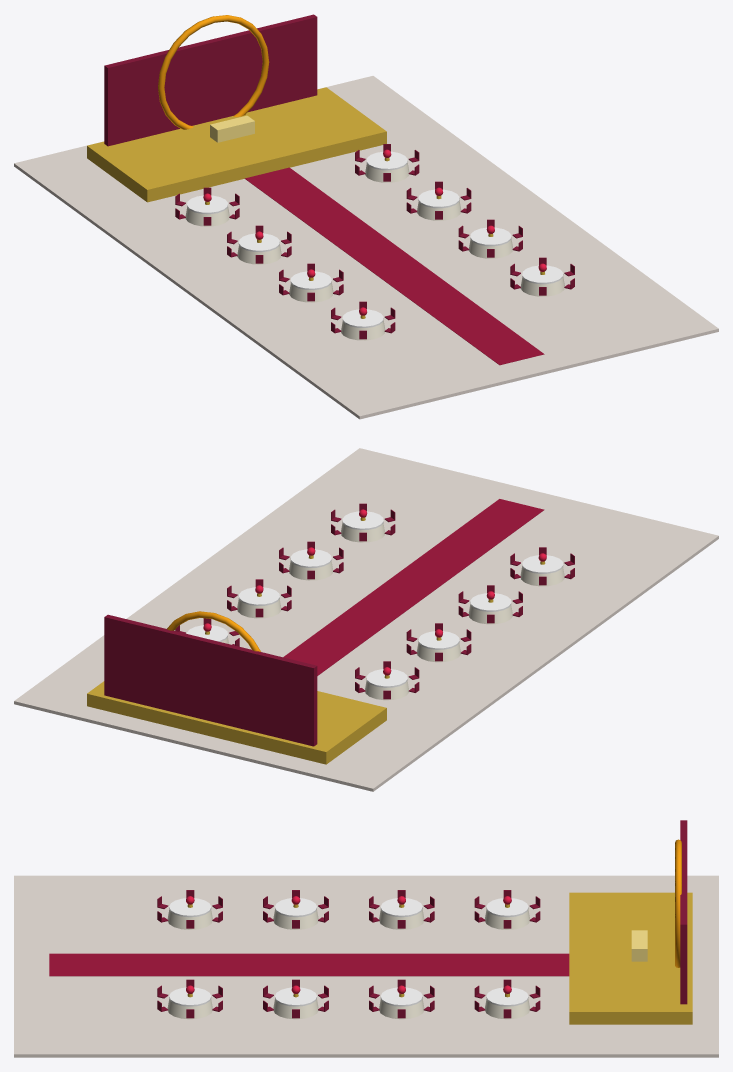
Rendered from banquet-a.glb.
3 renders of one model, top to bottom at view 1: azimuth 30°, elevation 25°; view 2: azimuth 150°, elevation 25°; view 3: azimuth 270°, elevation 25°, orthographic.
Bounding box in the file's own units: 24 × 7.7 × 40.
